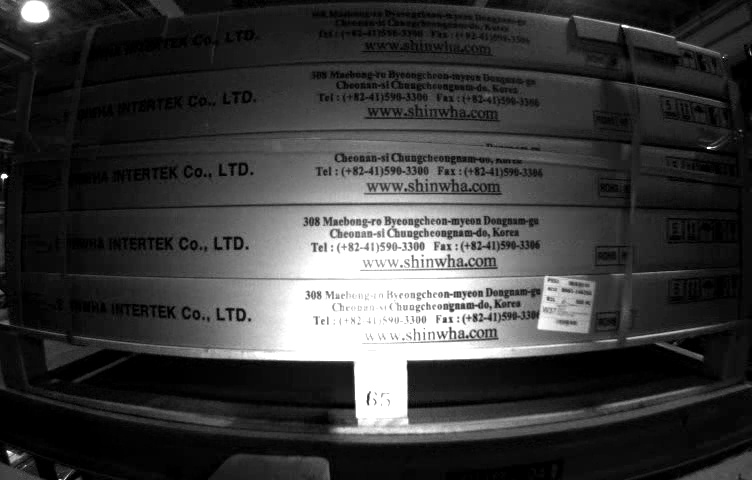True Barcode: (539, 274, 592, 336)
